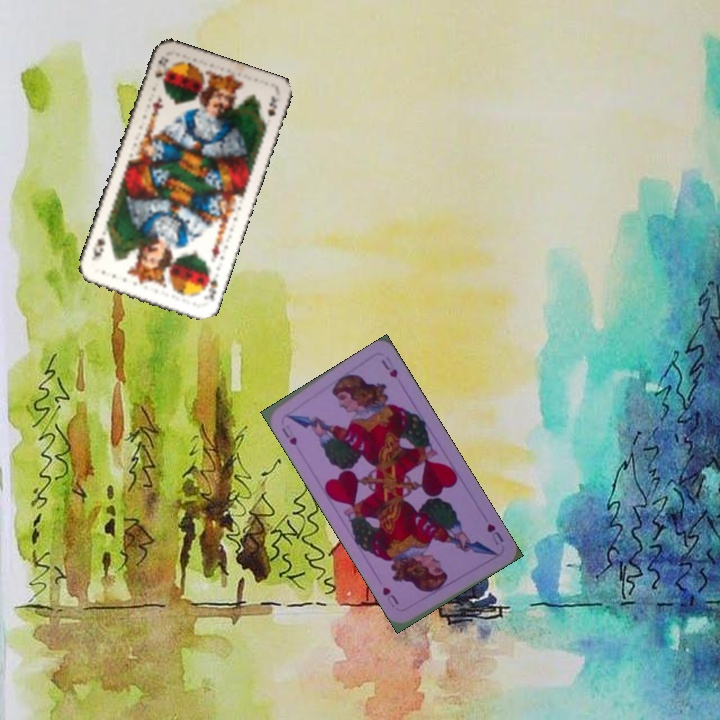HU: (483, 519, 507, 548), (277, 423, 300, 448)
SK: (199, 267, 221, 304), (150, 52, 171, 85)
